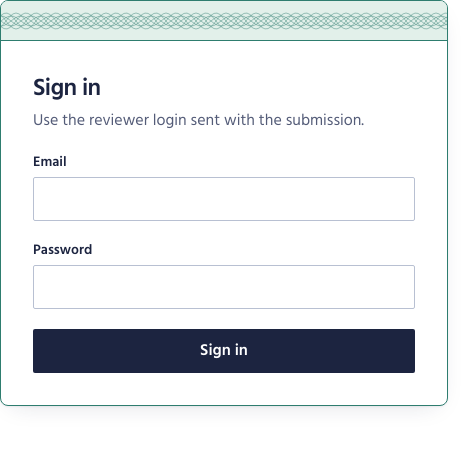
it: signs in with visible labels and shows an inline error on failure
Later steps or results of the test are not shown.
Type "reviewer@example.com" into the field labelled "Email" at (224, 199), box left=33, top=177, right=415, bottom=221
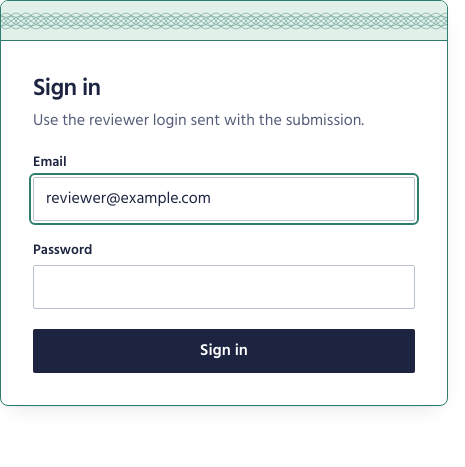
Type "wrong" into the password field labelled "Password" at (224, 287), box left=33, top=265, right=415, bottom=309
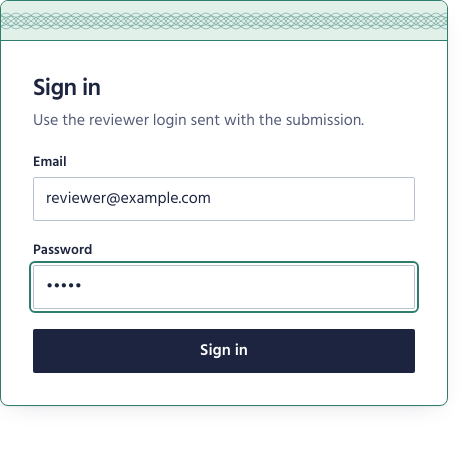
Click the button "Sign in" at (224, 351), box left=33, top=329, right=415, bottom=373
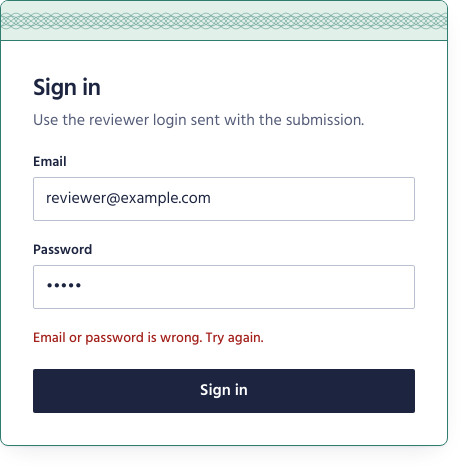
Expected: the message reads "Email or password is wrong. Try again.", left=33, top=327, right=264, bottom=350
